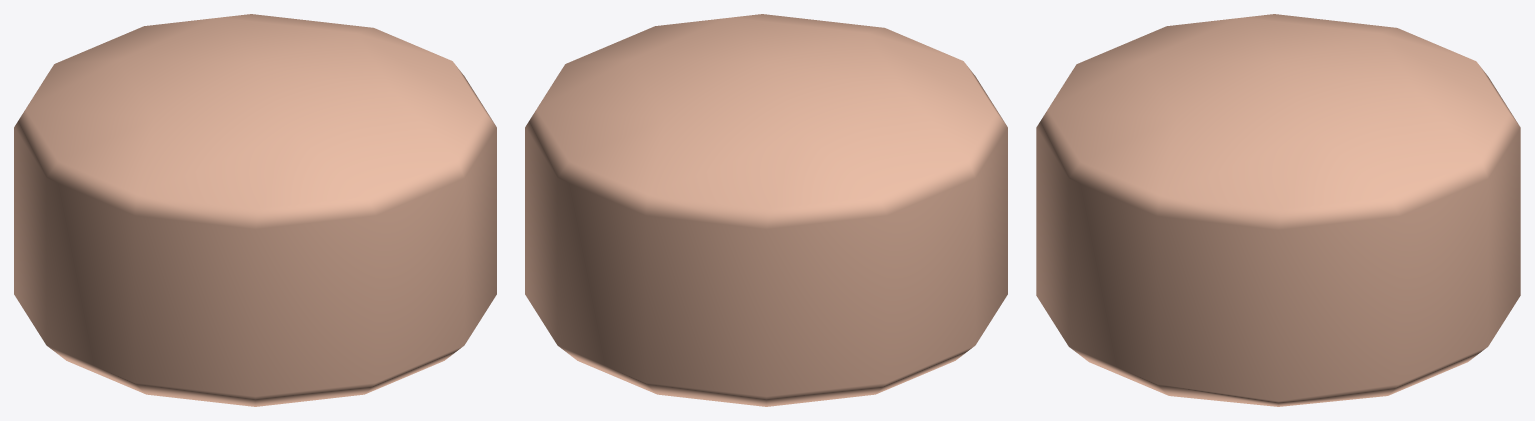
The model's file is chair_006.fbx.
3 renders of one model, left to right at view 1: azimuth 30°, elevation 25°; view 2: azimuth 150°, elevation 25°; view 3: azimuth 270°, elevation 25°, orthographic.
Visible parts, largest first — view 1: chair_006; view 2: chair_006; view 3: chair_006.
Boxes of the visible parts, x1,y1,x2,y2 form: chair_006: (14,14,496,406); chair_006: (525,14,1007,406); chair_006: (1036,14,1520,406).
Bounding box in the file's own units: 70.41 × 70.41 × 40.42.
